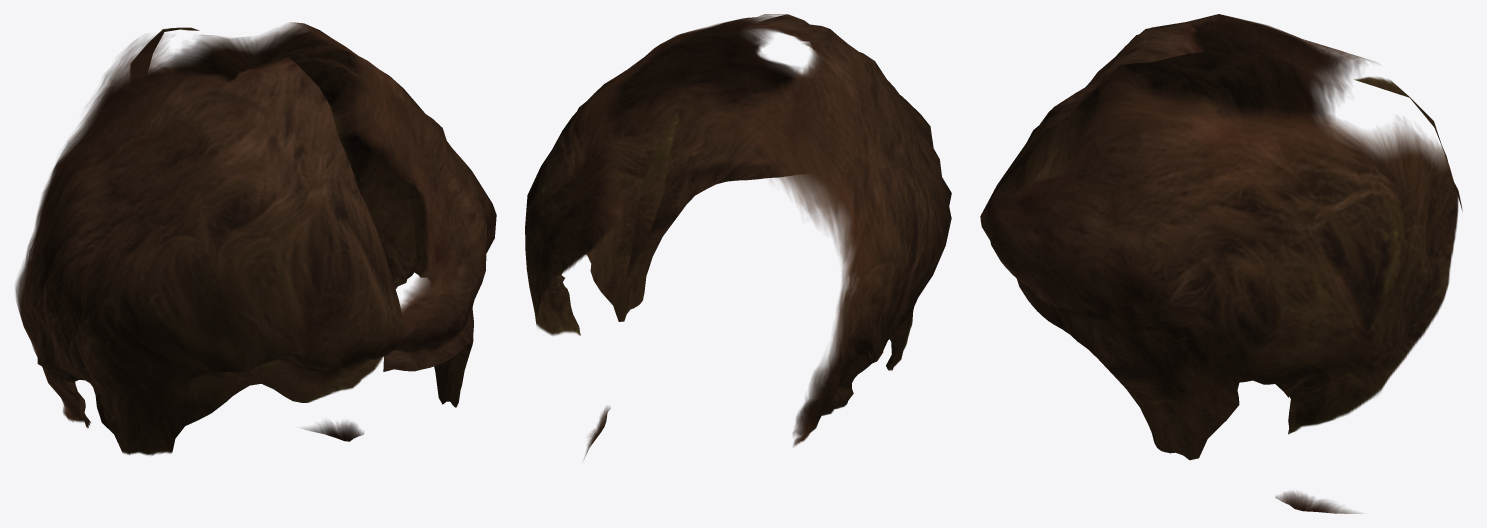
The model's file is short02-mobile.glb.
The picture shows the model from 3 angles, left to right: view 1: azimuth 30°, elevation 25°; view 2: azimuth 150°, elevation 25°; view 3: azimuth 270°, elevation 25°; orthographic projection. The views are drawn at different scales.
Parts seen in each view (by area): view 1: short02; view 2: short02; view 3: short02.
Boxes of the visible parts, left/top/right/bottom form: short02: left=15, top=22, right=496, bottom=455; short02: left=525, top=14, right=951, bottom=460; short02: left=980, top=14, right=1462, bottom=513.
Bounding box in the file's own units: 0.1856 × 0.204 × 0.2112.
Materials: 1 (1 with a texture image).
